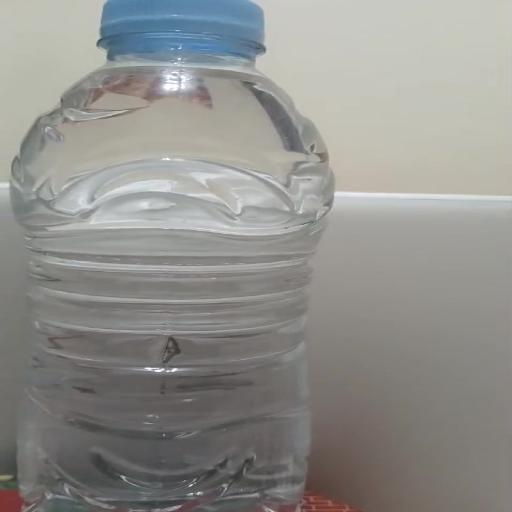bouteille non conformite: (4, 0, 385, 510)
